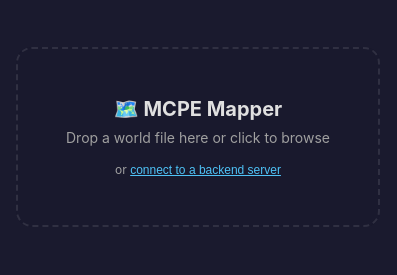
Test: FileDropZone › goes back to file mode when back is clicked
This screenshot has width=397, height=275.
Click the button "connect to a backend server".
click(206, 170)  # box top-left (130, 163), bottom-right (281, 177)
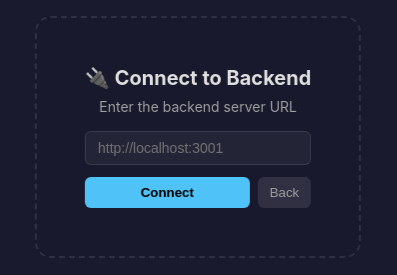
Click the button "Back".
click(284, 192)  # box top-left (258, 177), bottom-right (311, 208)
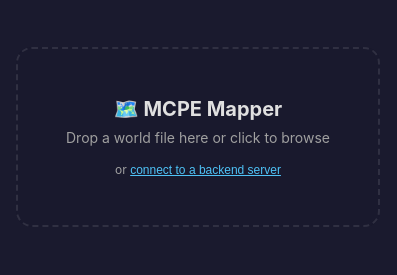
Check: the heading "🗺️ MCPE Mapper" is shown, box top-left (114, 97), bottom-right (282, 121)
